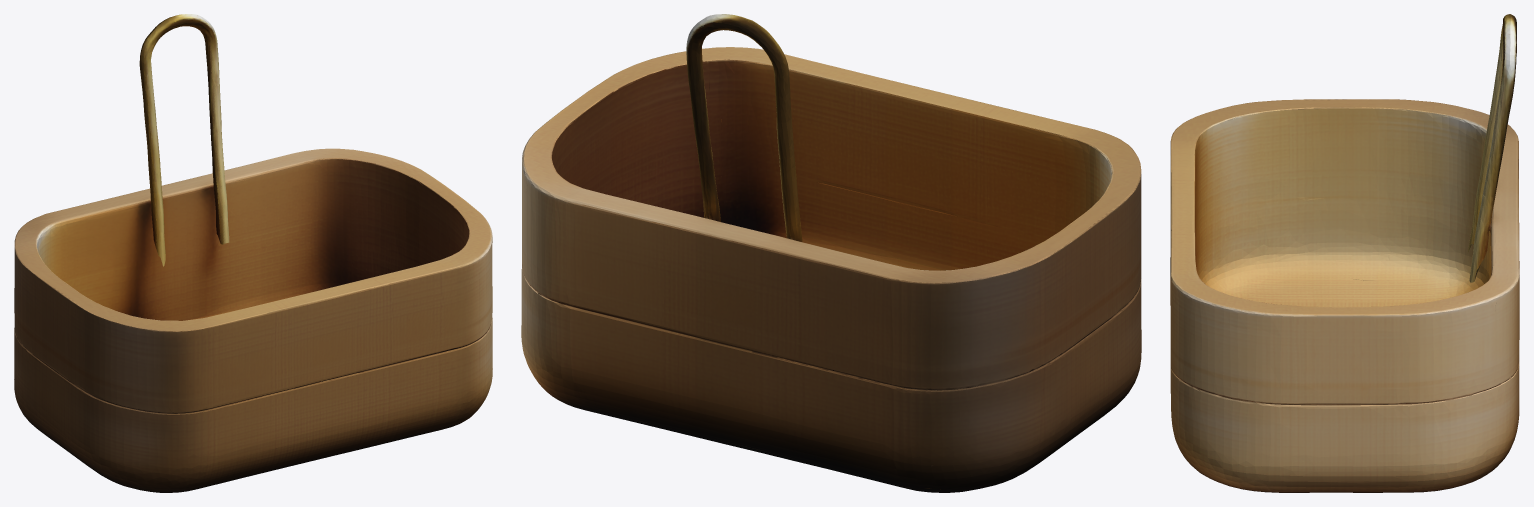
File: bamboo-paperclip-holder-3d.jpeg.glb
3 views of the same model, side by side, from view 1: azimuth 30°, elevation 25°; view 2: azimuth 150°, elevation 25°; view 3: azimuth 270°, elevation 25° (orthographic). The views are drawn at different scales.
Parts seen in each view (by area): view 1: world; view 2: world; view 3: world.
Part boxes in pixels (left/top/right/bottom): world: left=14, top=14, right=492, bottom=492; world: left=521, top=14, right=1141, bottom=492; world: left=1170, top=14, right=1519, bottom=492.
Size of the model in its own units: 1 by 0.8306 by 0.6846.
Materials: 1 (1 with a texture image).
